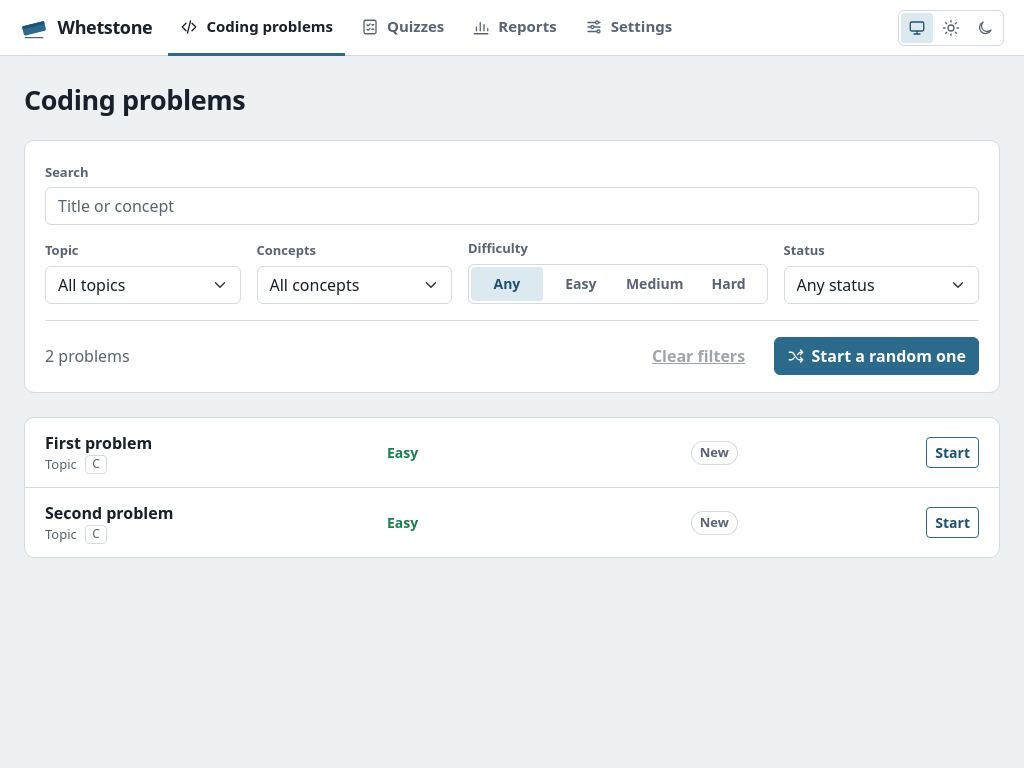
Scenario: App › lists the problems, opens one on Start with its statement sanitised, and warms up Python
Expected: the text "Python is ready" is not shown
Expected: the list item "First problem" shows "Easy", [387,443,418,462]
Step 1. Click the button with aria-label "Start First problem" → point(953, 453), box [926,437,979,468]
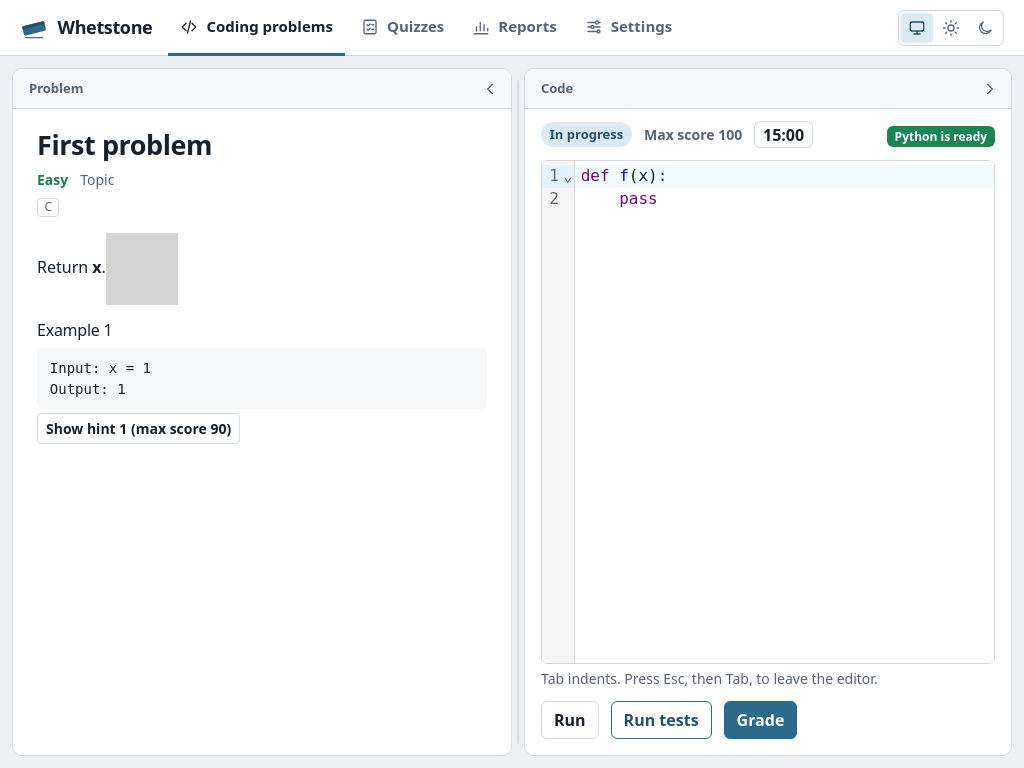
Expected: the heading "First problem" is shown, [37,126,212,163]
Expected: the message reads "Python is ready", [895,128,987,144]
